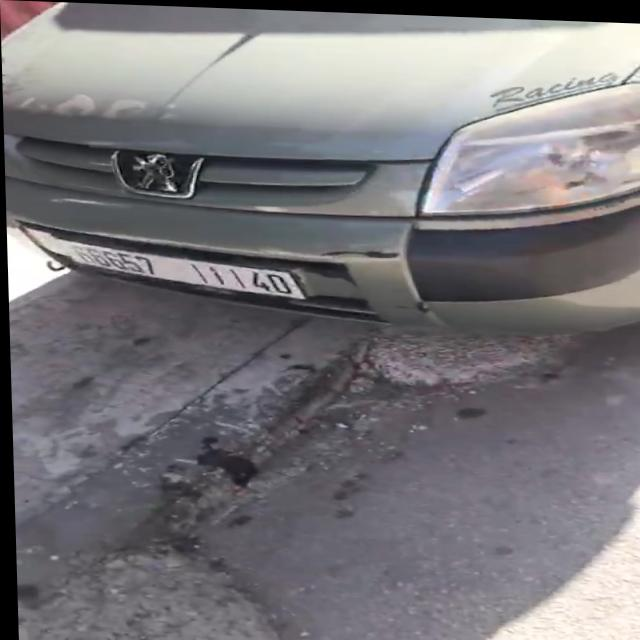License-Plate: (23, 229, 302, 297)
